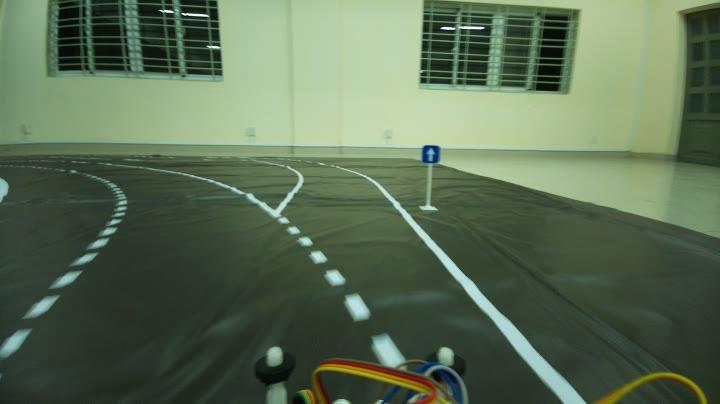onewayroad: (421, 142, 443, 164)
